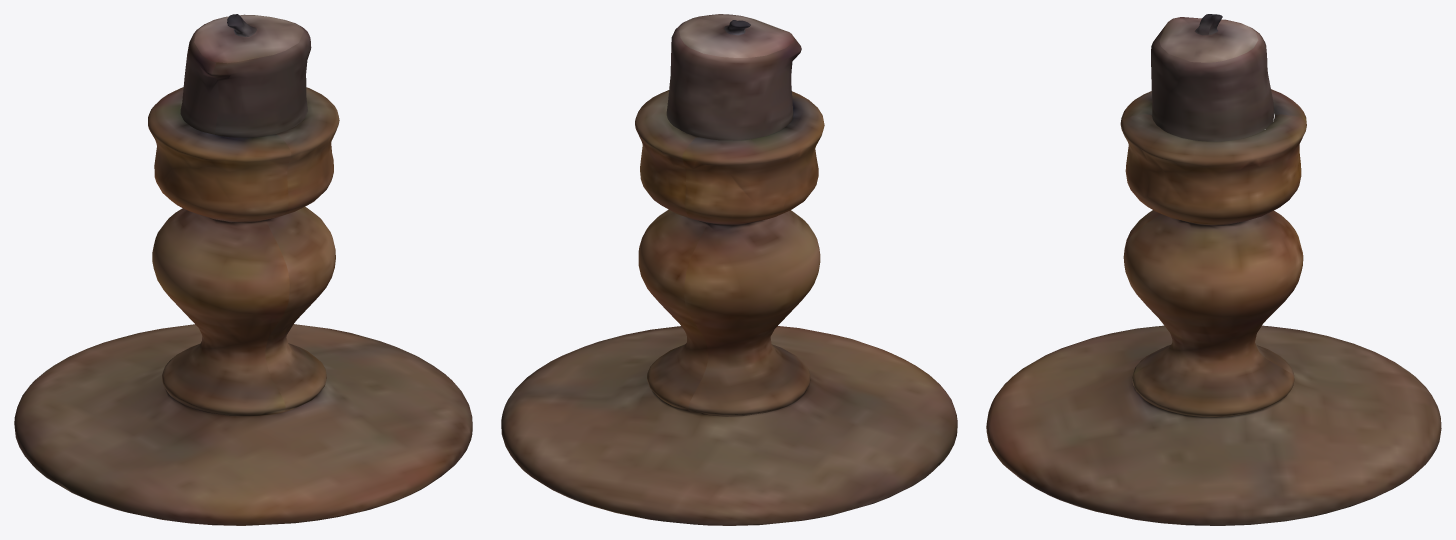
Rendered from ph-wooden-candlestick.glb.
3 renders of one model, left to right at view 1: azimuth 30°, elevation 25°; view 2: azimuth 150°, elevation 25°; view 3: azimuth 270°, elevation 25°, orthographic.
Parts seen in each view (by area): view 1: wooden_candlestick; view 2: wooden_candlestick; view 3: wooden_candlestick.
Boxes of the visible parts, x1=… form: wooden_candlestick: x1=14, y1=14, x2=472, y2=525; wooden_candlestick: x1=501, y1=14, x2=957, y2=525; wooden_candlestick: x1=986, y1=14, x2=1441, y2=525.
Bounding box in the file's own units: 0.9993 × 0.9997 × 0.9995.
1 material, 1 textured.
